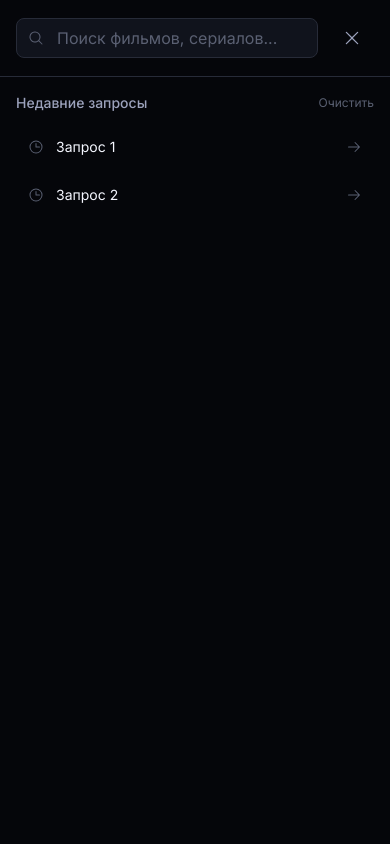
Test: MobileSearchOverlay › Recent searches › should clear recent searches and localStorage on clear click
Click the button "Очистить": (346,103) [319, 95, 374, 111]
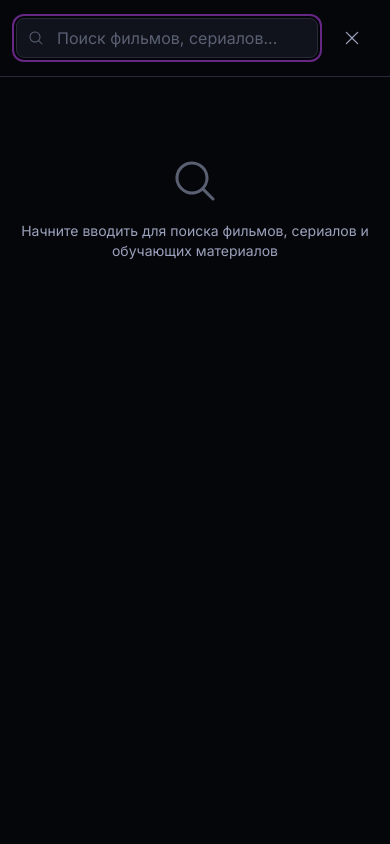
Check: the button "Запрос 1" is gone
Check: the button "Запрос 2" is gone
